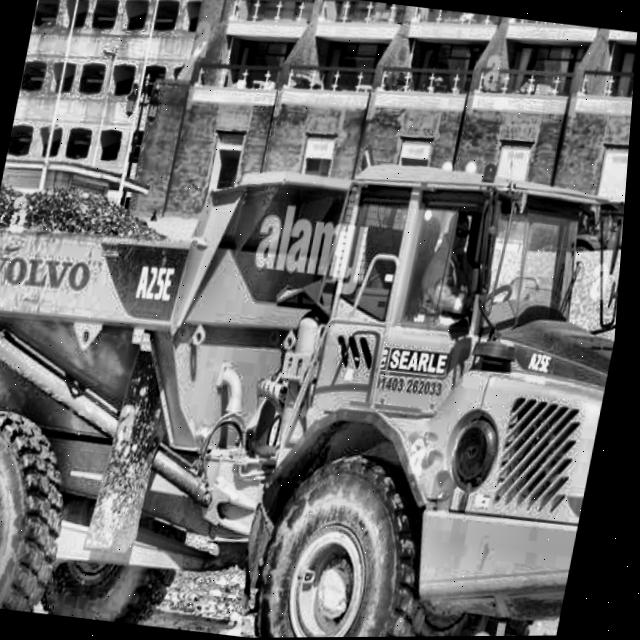dump_truck: (0, 91, 634, 640)
